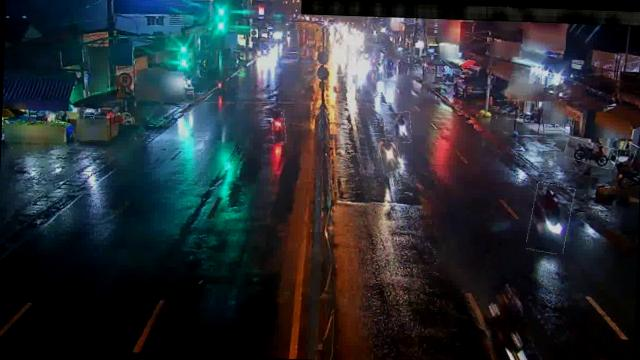Bike: (529, 182, 573, 253), (564, 139, 618, 168), (384, 112, 412, 144), (378, 137, 400, 174), (496, 100, 520, 121), (272, 110, 286, 143), (375, 60, 387, 80)
